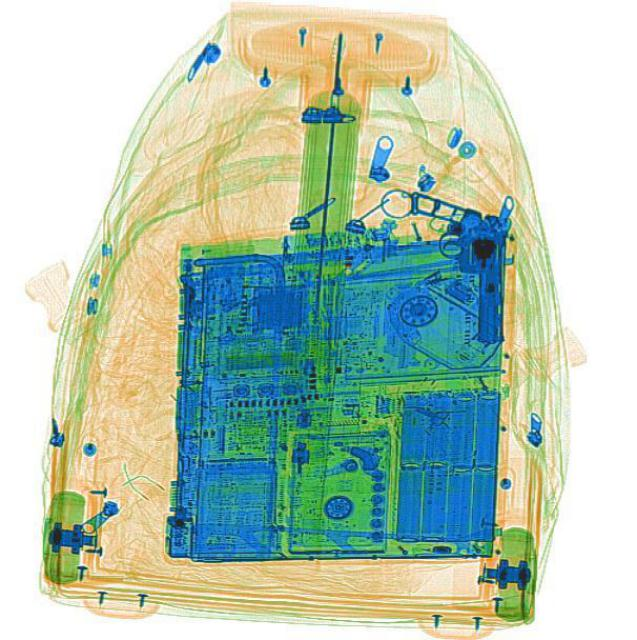Gun: (395, 190, 514, 344)
